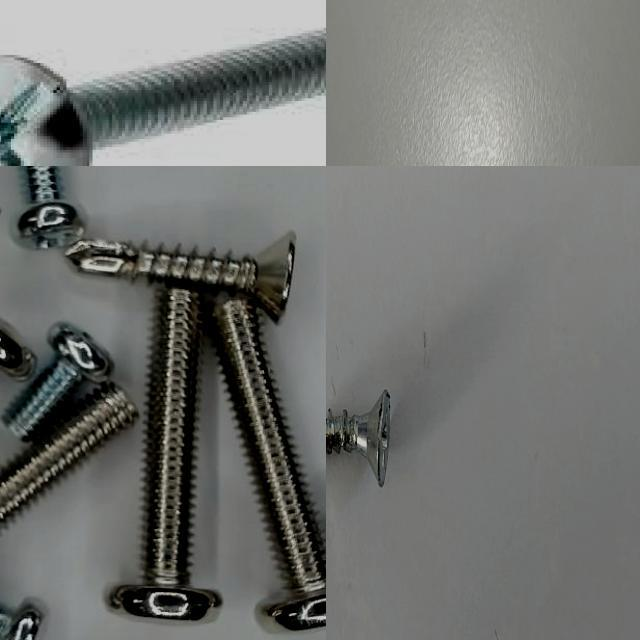Screw: (0, 27, 326, 166), (111, 287, 222, 622), (215, 297, 326, 631), (0, 382, 137, 525), (66, 234, 296, 317), (3, 322, 114, 438), (326, 389, 390, 486), (20, 166, 85, 248), (0, 606, 43, 640)
